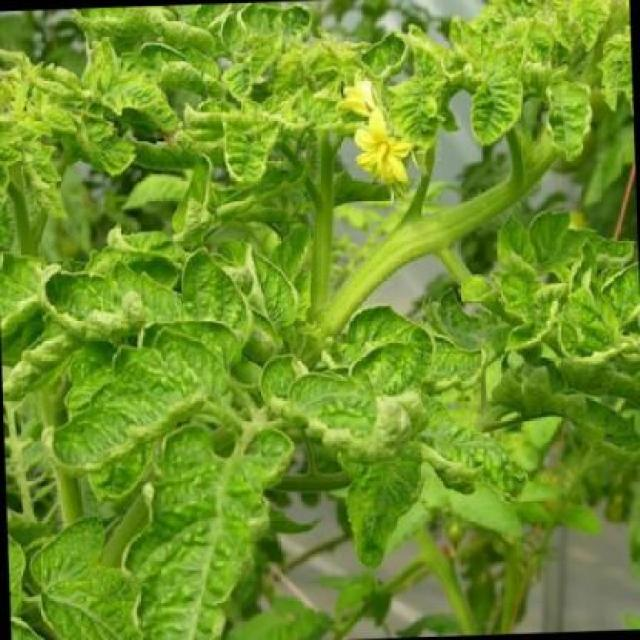Healthy Leaf: (120, 414, 298, 638), (44, 336, 228, 478), (341, 282, 494, 427), (256, 355, 387, 467), (146, 243, 265, 363), (230, 245, 315, 341), (81, 63, 187, 132), (525, 68, 590, 172), (459, 64, 532, 150), (218, 111, 293, 187)
